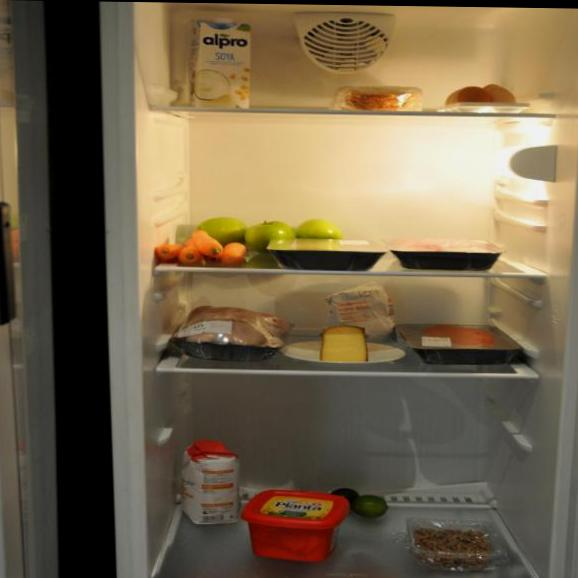apple: (197, 207, 340, 246)
carrots: (159, 237, 248, 279)
cheese: (311, 308, 380, 375)
chicken: (176, 299, 283, 380)
eggs: (436, 80, 525, 122)
lime: (334, 481, 397, 526)
meat: (405, 312, 522, 384), (392, 222, 510, 277), (271, 241, 388, 276)
milk: (196, 9, 256, 109)
